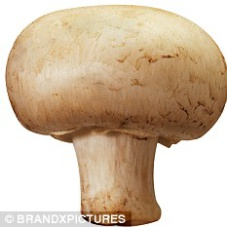mushroom: (8, 5, 226, 226)
